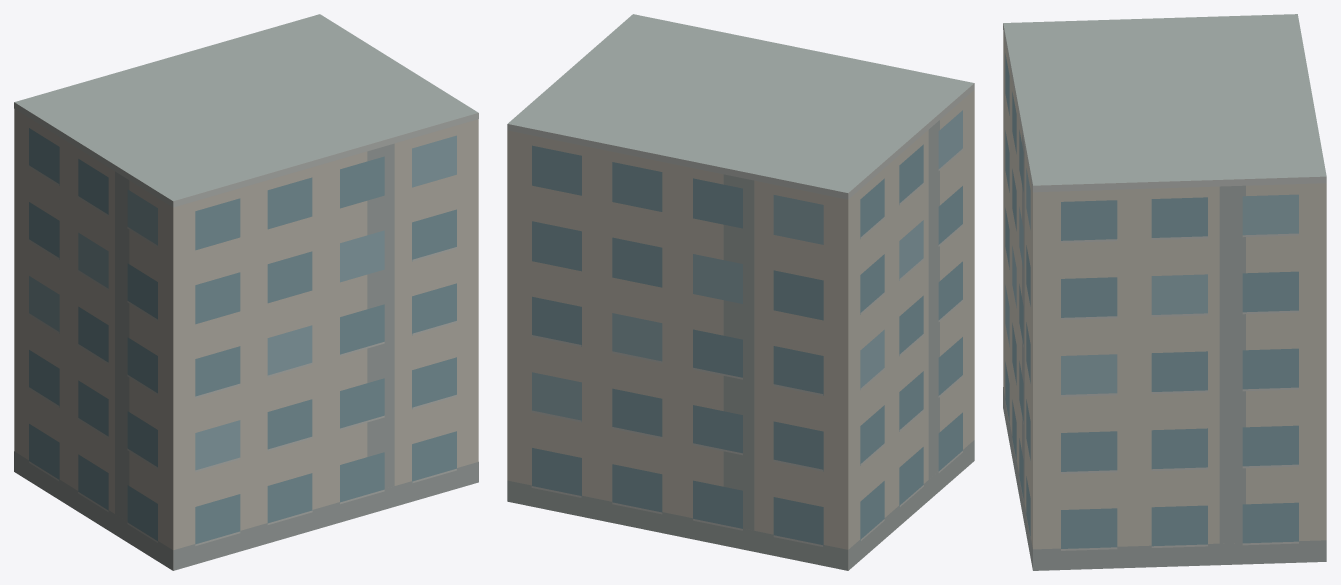
The model's file is survey-upis-32698592.glb.
The picture shows the model from 3 angles, left to right: view 1: azimuth 30°, elevation 25°; view 2: azimuth 150°, elevation 25°; view 3: azimuth 270°, elevation 25°; orthographic projection. The views are drawn at different scales.
Visible parts, largest first — view 1: survey-upis-32698592.tmp; view 2: survey-upis-32698592.tmp; view 3: survey-upis-32698592.tmp.
Boxes of the visible parts, x1,y1,x2,y2 form: survey-upis-32698592.tmp: (14, 14, 478, 570); survey-upis-32698592.tmp: (507, 14, 974, 570); survey-upis-32698592.tmp: (1003, 14, 1326, 570).
Bounding box in the file's own units: 13.58 × 14.2 × 10.82.
